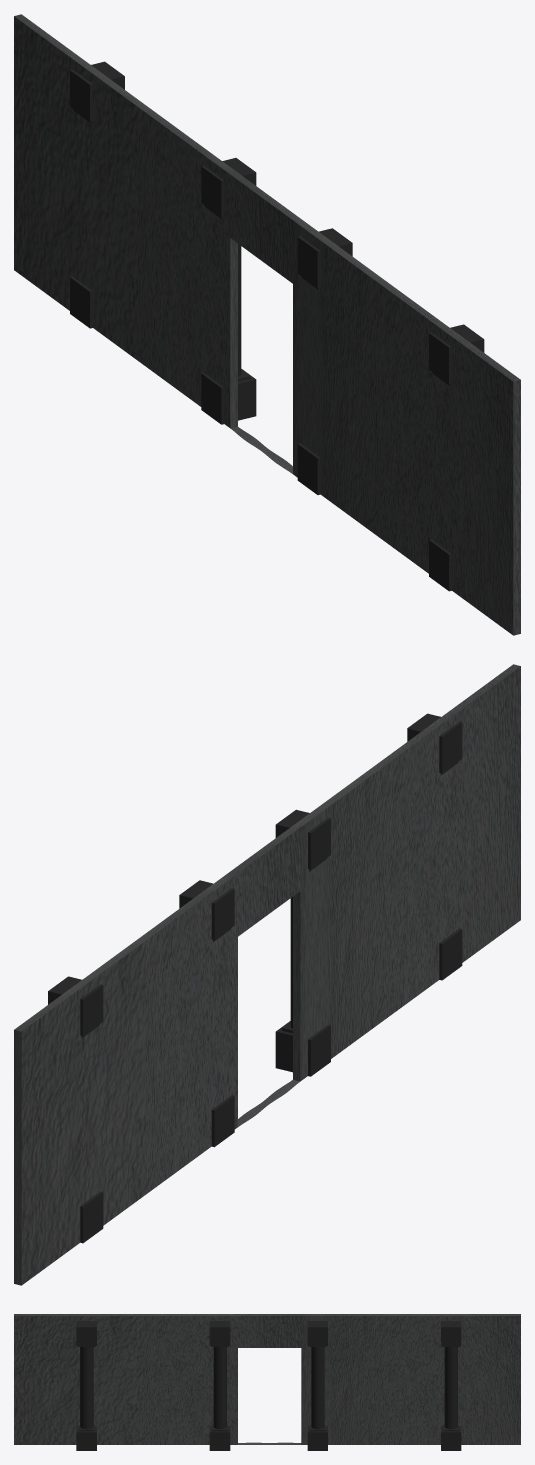
File: temple.obj
3 views of the same model, one above another, from view 1: azimuth 30°, elevation 25°; view 2: azimuth 150°, elevation 25°; view 3: azimuth 270°, elevation 25° (orthographic). The views are drawn at different scales.
Visible parts, largest first — view 1: Entrance_Cube, Pillar.001_Cube.005, Pillar_Cube.003, Pillar.002_Cube.006, Pillar.003_Cube.007; view 2: Entrance_Cube, Pillar_Cube.003, Pillar.001_Cube.005, Pillar.002_Cube.006, Pillar.003_Cube.007; view 3: Entrance_Cube, Pillar_Cube.003, Pillar.002_Cube.006, Pillar.001_Cube.005, Pillar.003_Cube.007.
Part boxes in pixels (box(x1,y1,x2,y2)): Entrance_Cube: box(14, 14, 520, 635); Pillar.001_Cube.005: box(201, 158, 256, 424); Pillar_Cube.003: box(297, 228, 352, 494); Pillar.002_Cube.006: box(429, 324, 484, 591); Pillar.003_Cube.007: box(70, 61, 124, 328); Entrance_Cube: box(14, 664, 520, 1285); Pillar_Cube.003: box(275, 809, 330, 1076); Pillar.001_Cube.005: box(179, 880, 234, 1147); Pillar.002_Cube.006: box(407, 713, 462, 980); Pillar.003_Cube.007: box(48, 976, 103, 1243); Entrance_Cube: box(14, 1314, 520, 1444); Pillar_Cube.003: box(209, 1321, 230, 1450); Pillar.002_Cube.006: box(76, 1321, 96, 1450); Pillar.001_Cube.005: box(307, 1321, 327, 1450); Pillar.003_Cube.007: box(441, 1321, 461, 1450).
Bounding box in the file's own units: 4.62 × 32 × 114.
1 material, 1 textured.
